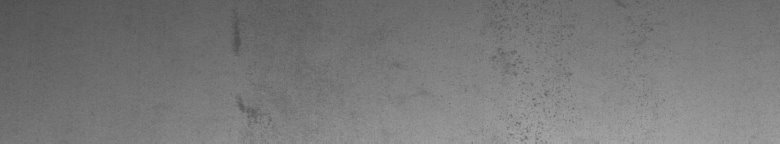ib: (489, 4, 653, 128)
